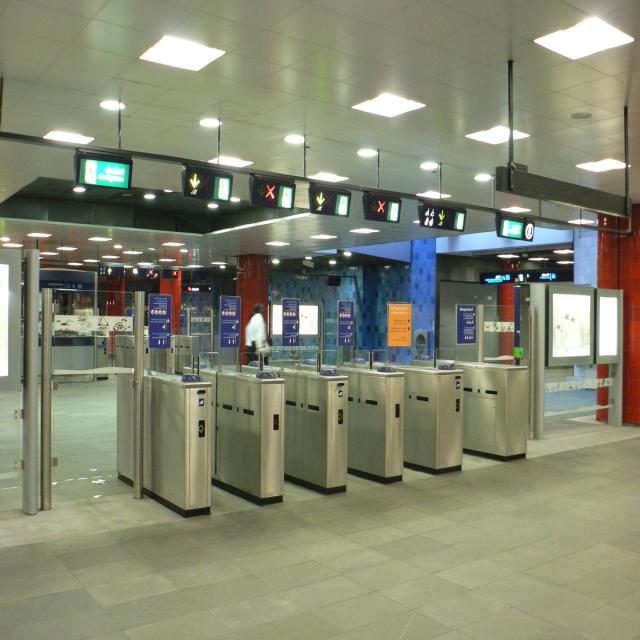torniquete: (212, 367, 285, 505), (144, 373, 211, 517), (279, 368, 349, 493), (339, 367, 404, 483), (456, 362, 529, 460), (398, 367, 462, 473)
